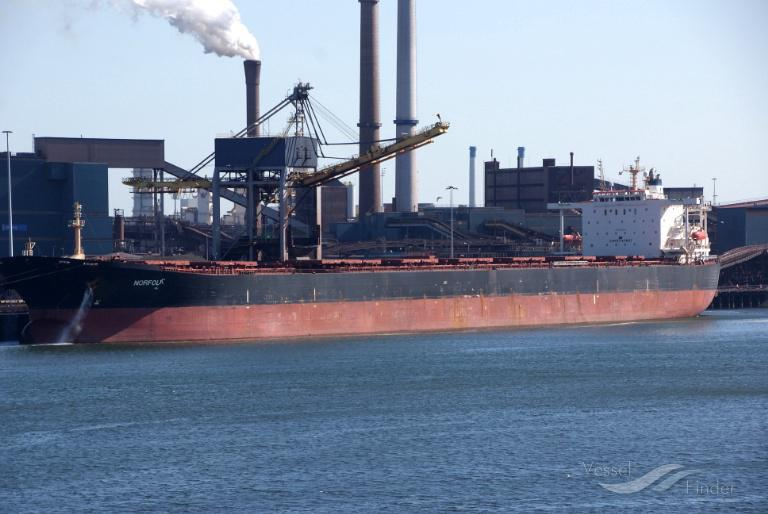OCR: (126, 274, 170, 292)
